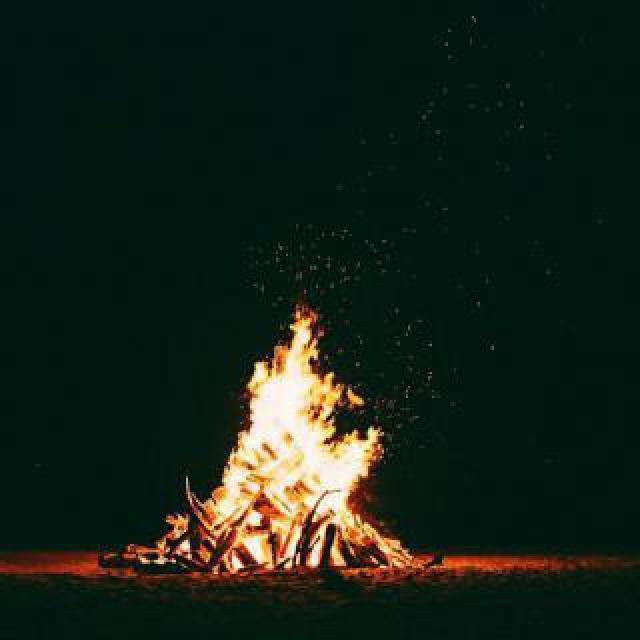Fire: (200, 300, 402, 564)
